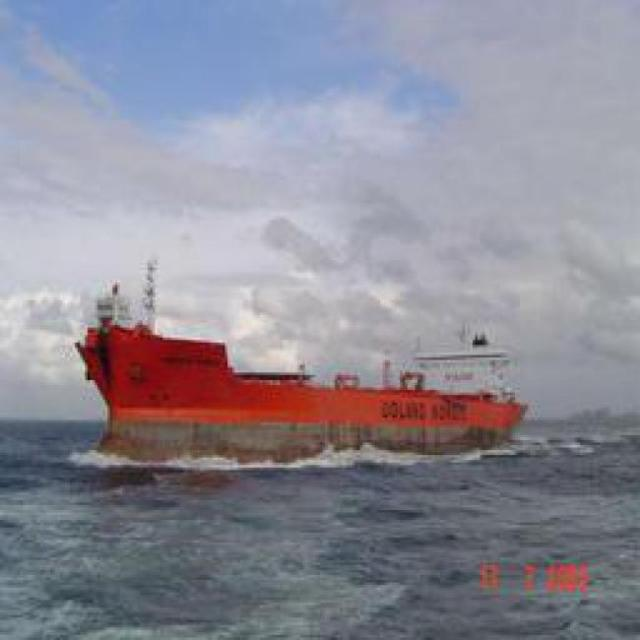boat: (64, 305, 554, 468)
